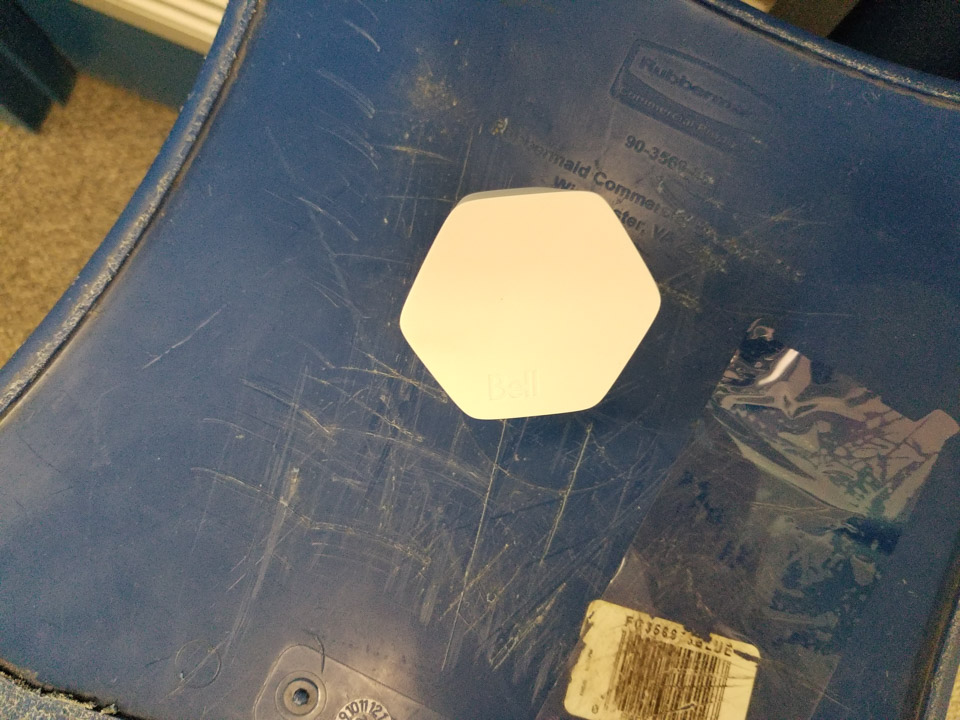pod: (395, 180, 670, 426)
